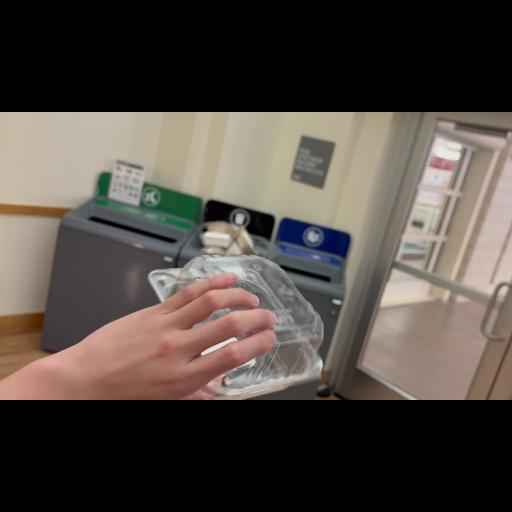small_plastic_container: (132, 252, 332, 400)
